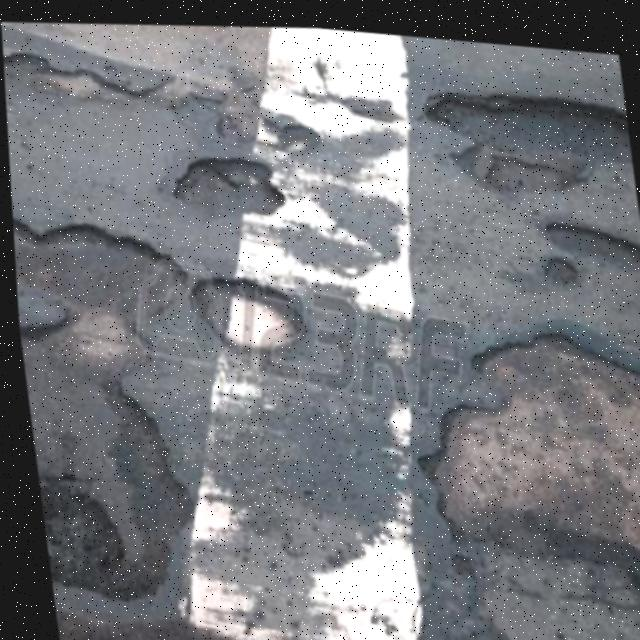Pothole: (378, 264, 640, 609), (13, 286, 236, 640), (402, 30, 635, 192), (9, 193, 196, 346), (152, 126, 298, 243), (176, 255, 313, 378), (1, 21, 151, 131), (533, 189, 640, 267), (533, 234, 587, 290), (269, 110, 327, 158)
